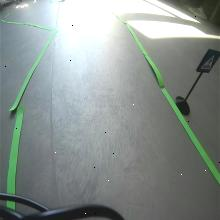crosswalk: (196, 48, 219, 73)
